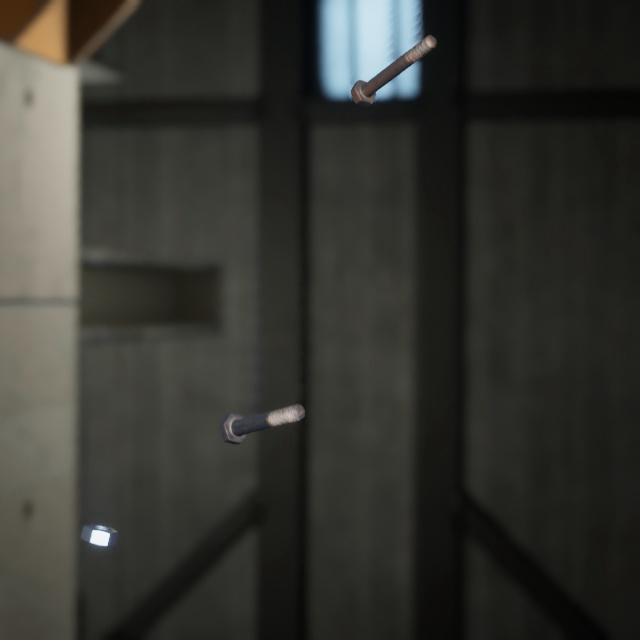bolt: (345, 21, 441, 101), (214, 378, 309, 428)
nut: (76, 497, 122, 529)
